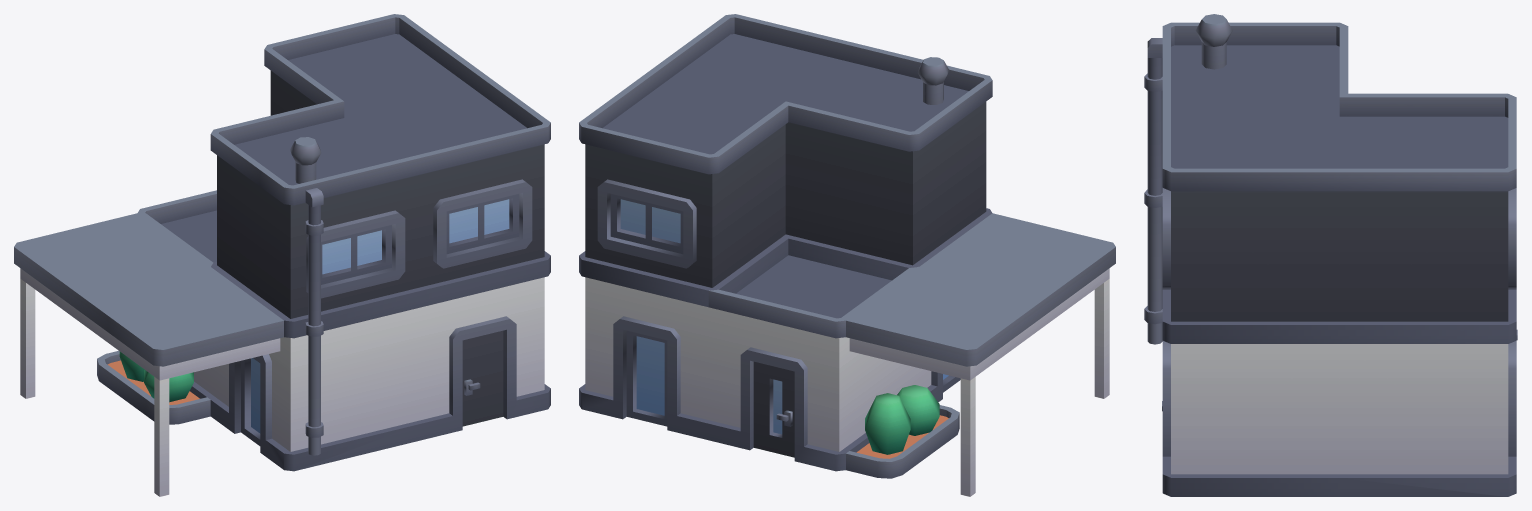
File: suburban.building_type_q.glb
3 views of the same model, side by side, from view 1: azimuth 30°, elevation 25°; view 2: azimuth 150°, elevation 25°; view 3: azimuth 270°, elevation 25° (orthographic). The views are drawn at different scales.
Visible parts, largest first — view 1: building-type-q; view 2: building-type-q; view 3: building-type-q.
Part boxes in pixels (<box>): building-type-q: <box>14,14,550,496</box>; building-type-q: <box>579,14,1115,496</box>; building-type-q: <box>1144,14,1517,496</box>.
Bounding box in the file's own units: 6.82 × 5.05 × 4.87.
1 material, 1 textured.
